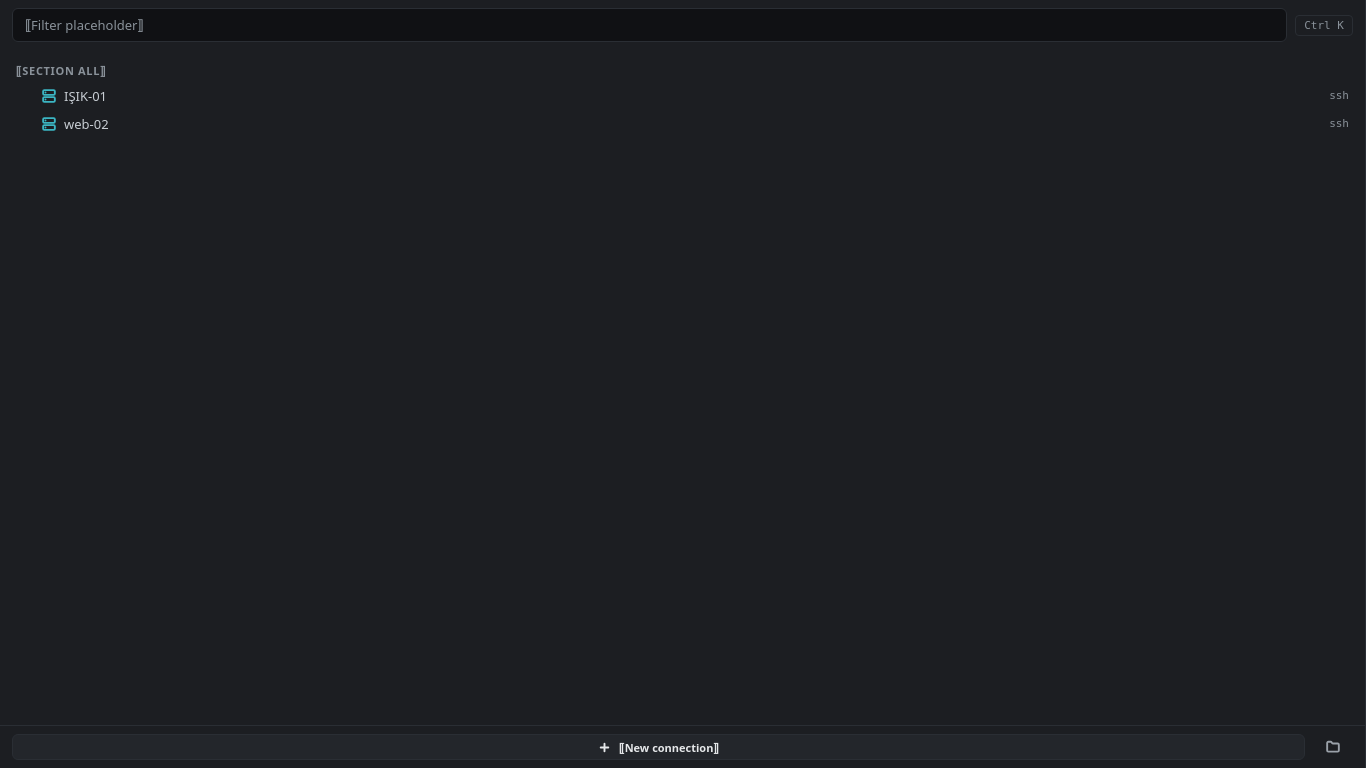
Test case: the sidebar in Turkish › finds a machine by the name written on it
Expected: the list item "IŞIK-01 ssh" is shown, [8,82,1357,110]
Type "ışık" into the field at (650, 25), box [12,8,1287,42]
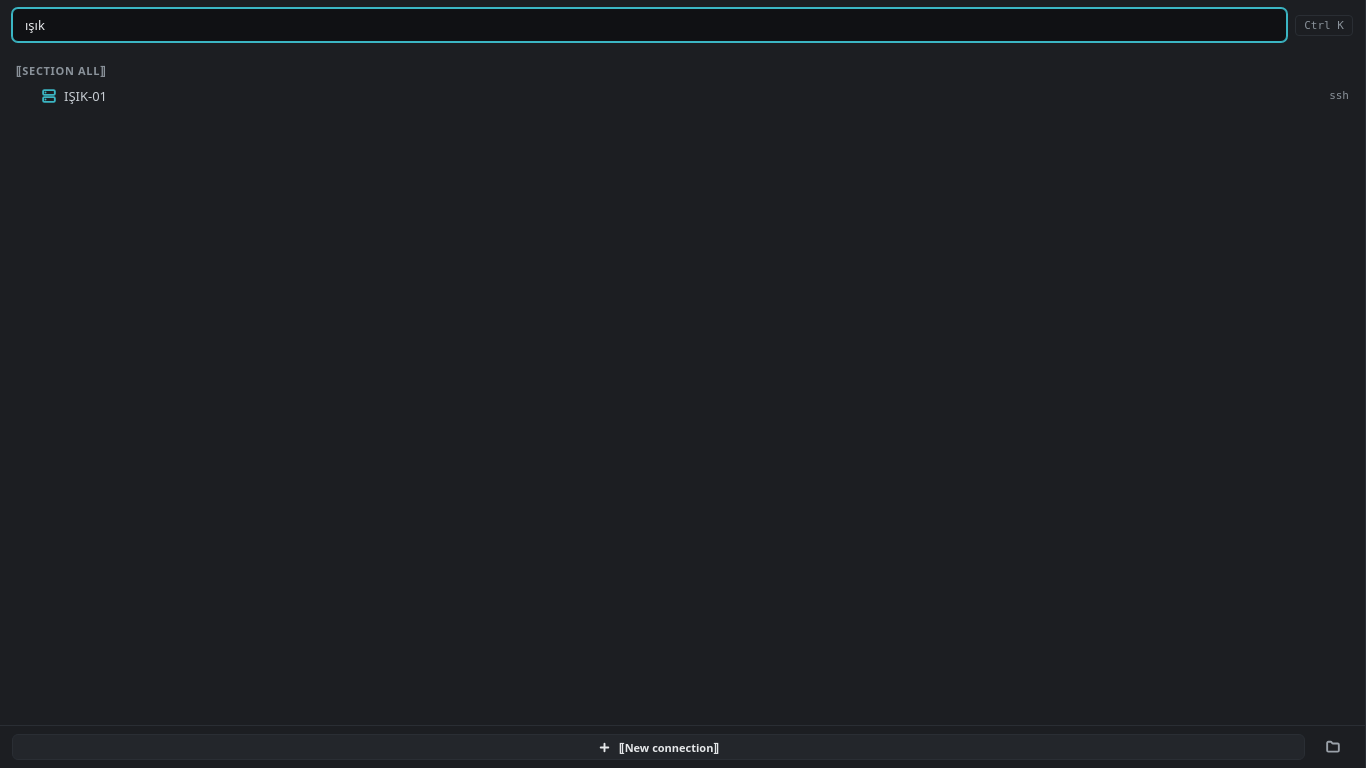
Expected: the list item "IŞIK-01 ssh" is shown, [8,82,1357,110]
Expected: the text "web-02" is gone
